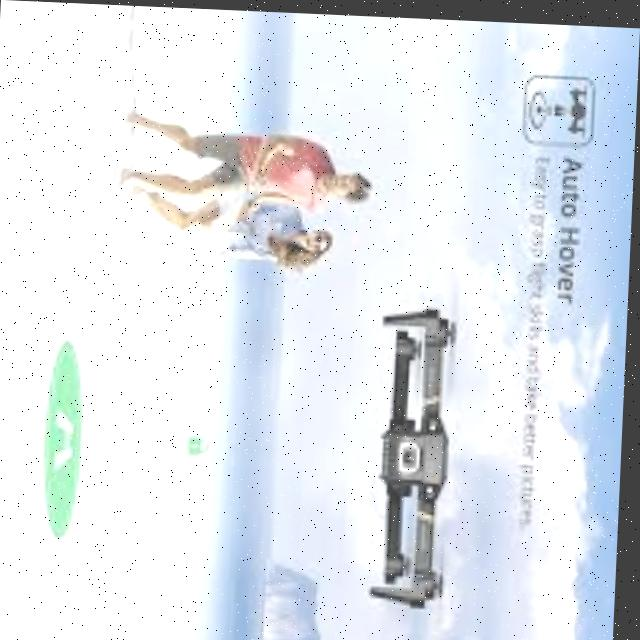drone: (362, 291, 477, 631)
